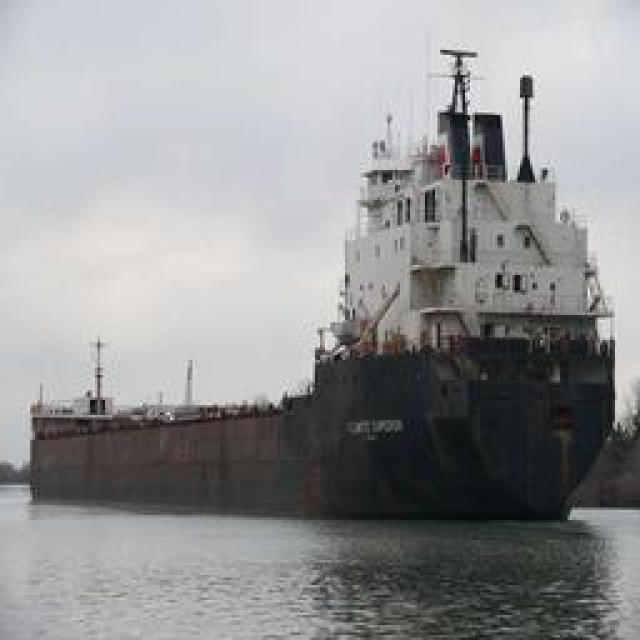Ship: (30, 40, 620, 516)
